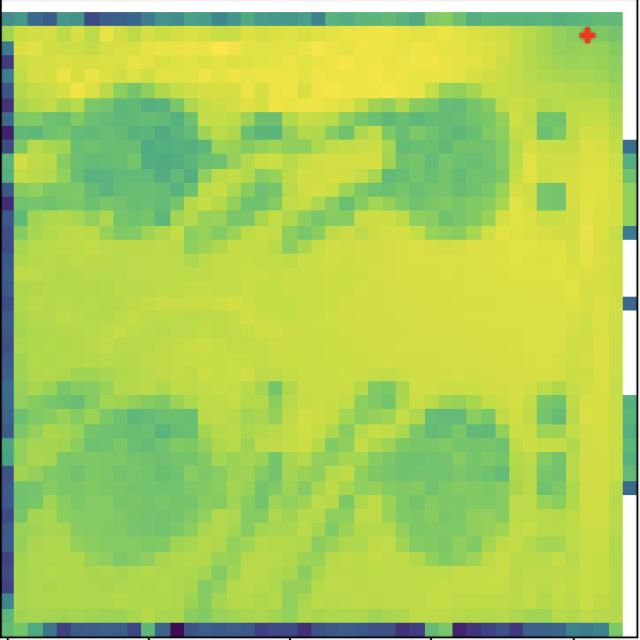Concrete: (390, 410, 528, 570)
Glass: (394, 81, 520, 246)
Metal: (62, 397, 216, 569)
Wood: (70, 80, 208, 244)
